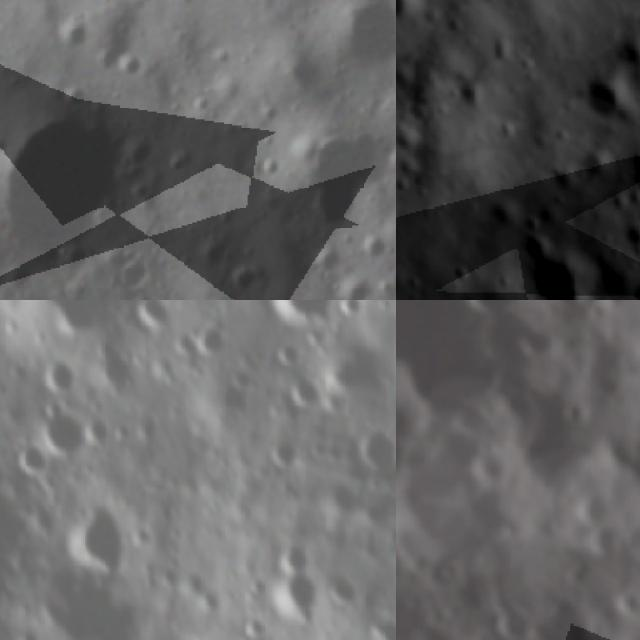crater: (0, 79, 137, 262), (396, 414, 513, 583), (283, 112, 396, 213), (502, 214, 614, 300), (562, 51, 640, 132), (61, 498, 136, 579), (20, 300, 161, 338), (329, 0, 396, 76), (468, 184, 529, 244), (603, 122, 640, 213), (532, 143, 588, 200), (41, 403, 96, 460), (576, 476, 628, 532), (96, 332, 142, 394), (509, 312, 561, 364), (396, 84, 443, 138), (354, 424, 396, 481), (547, 387, 600, 431), (467, 442, 513, 491), (286, 374, 339, 416), (270, 300, 345, 328), (448, 68, 493, 114), (323, 478, 368, 522), (194, 317, 239, 360), (606, 201, 640, 252), (18, 436, 56, 481), (279, 572, 320, 612), (326, 573, 368, 612), (42, 358, 84, 396), (138, 300, 180, 336), (53, 11, 88, 54), (446, 300, 529, 318), (270, 437, 306, 476), (275, 337, 311, 374), (282, 536, 316, 572), (396, 0, 432, 31), (138, 410, 168, 447), (234, 361, 265, 396), (334, 300, 379, 322), (239, 614, 274, 640), (116, 412, 138, 450), (617, 268, 640, 300), (401, 287, 456, 300), (458, 286, 505, 300)
